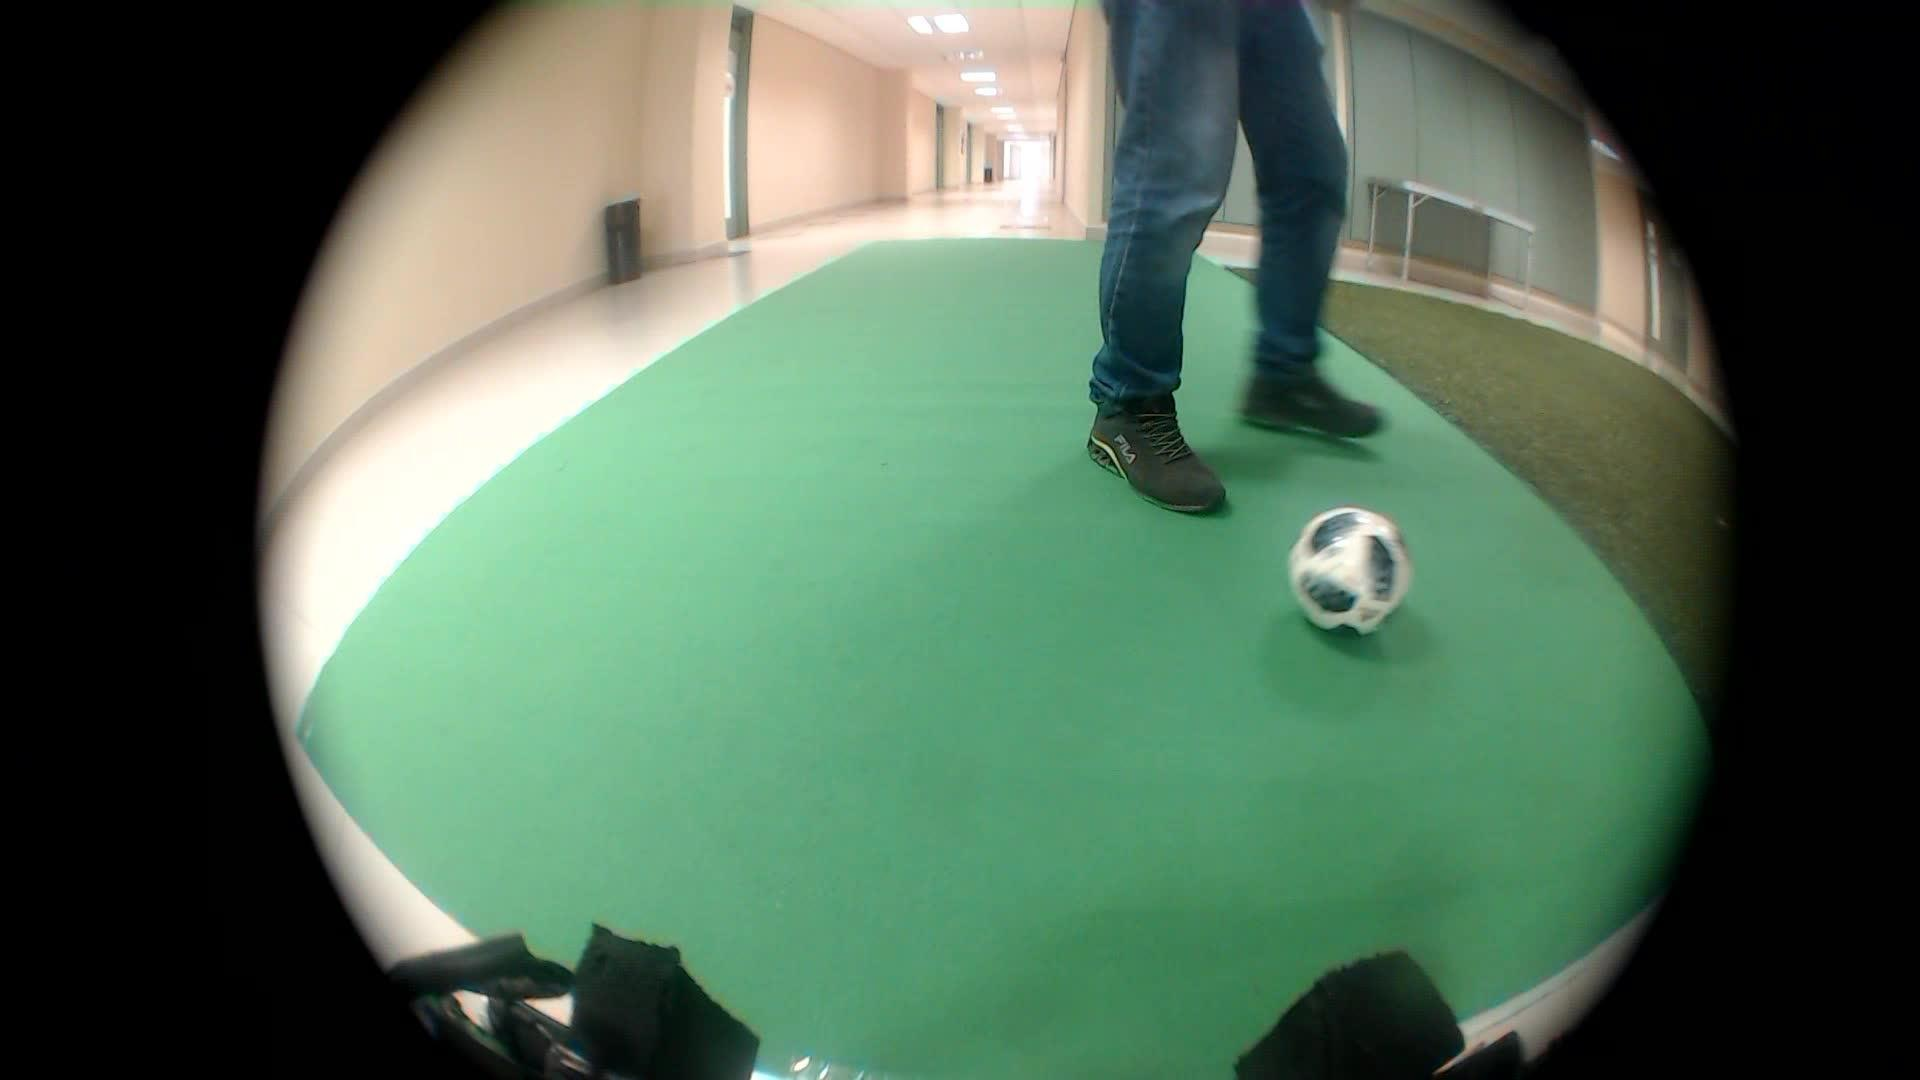ball: (1283, 485, 1418, 649)
